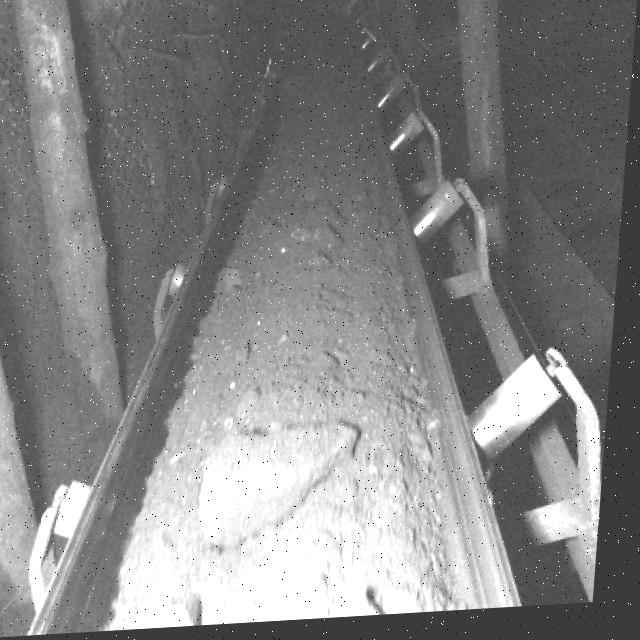large_sized_coal: (199, 422, 368, 551)
